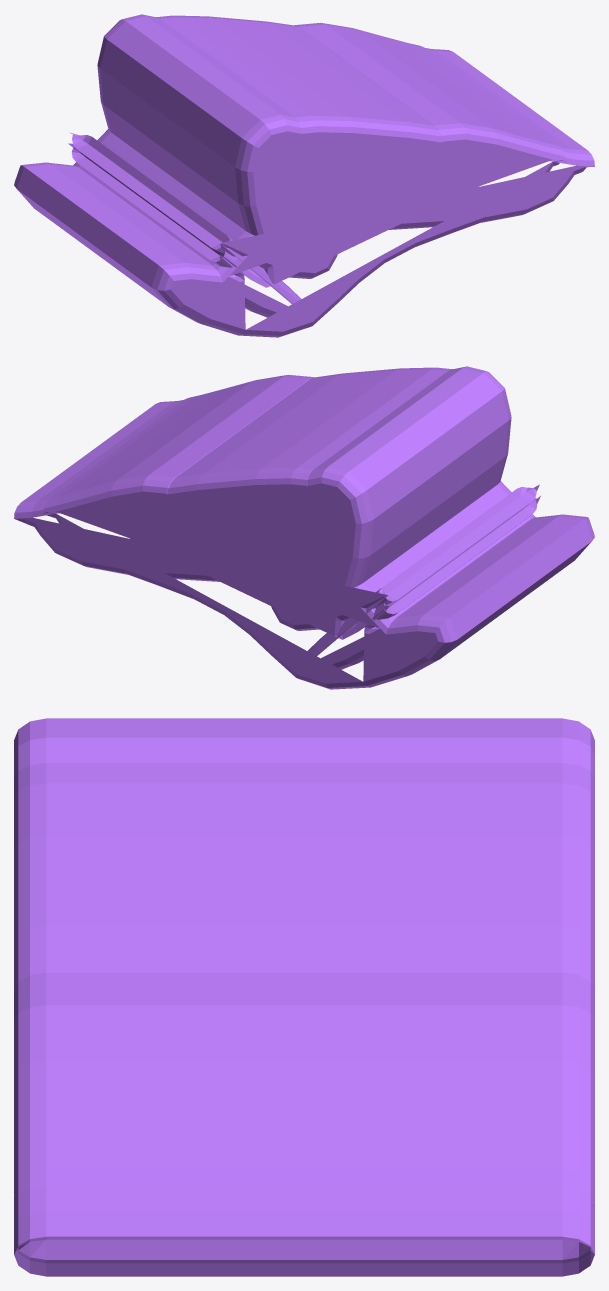
Rendered from 1773362313521-Extruded_Form.glb.
3 views of the same model, one above another, from view 1: azimuth 30°, elevation 25°; view 2: azimuth 150°, elevation 25°; view 3: azimuth 270°, elevation 25° (orthographic). The views are drawn at different scales.
Size of the model in its own units: 4.62 by 2.22 by 2.78.
